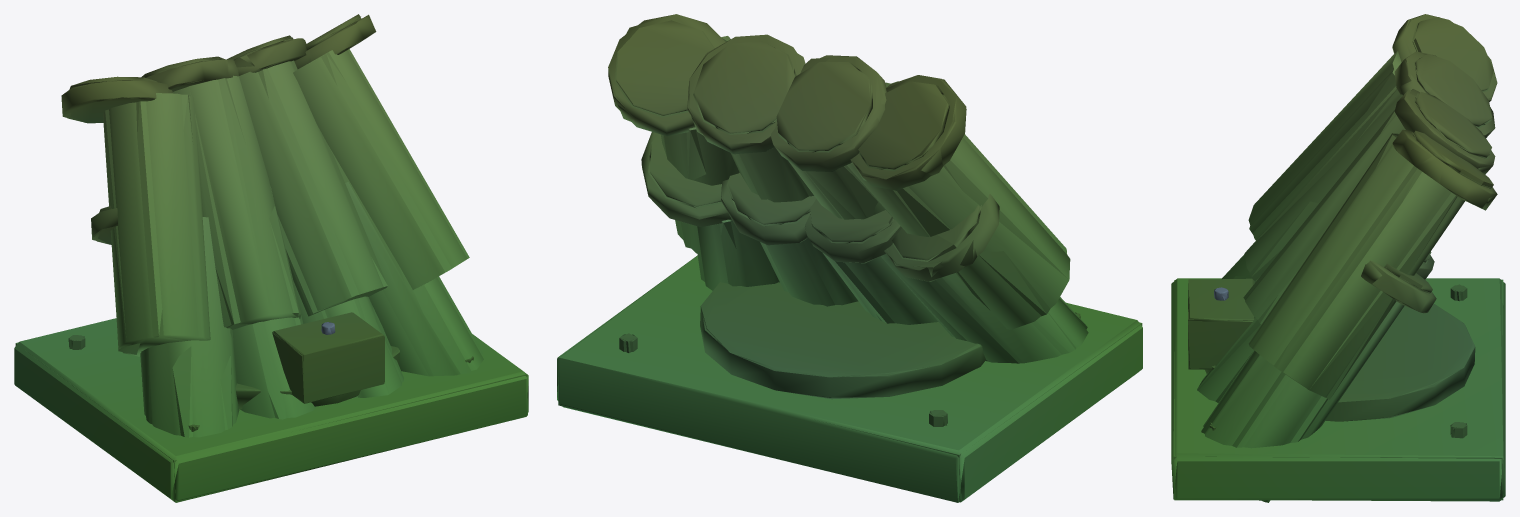
File: RCLModule_skirmish_bike_cyber_nanoweave_LODs.fbx
3 views of the same model, side by side, from view 1: azimuth 30°, elevation 25°; view 2: azimuth 150°, elevation 25°; view 3: azimuth 270°, elevation 25° (orthographic). The views are drawn at different scales.
Parts seen in each view (by area): view 1: LOD1_RCLModule_skirmish_bike_cyber_nanoweave_Batch_RCLModule (×2), LOD2_RCLModule_skirmish_bike_cyber_nanoweave_Batch_RCLModule (×2); view 2: LOD1_RCLModule_skirmish_bike_cyber_nanoweave_Batch_RCLModule (×2), LOD2_RCLModule_skirmish_bike_cyber_nanoweave_Batch_RCLModule (×2); view 3: LOD1_RCLModule_skirmish_bike_cyber_nanoweave_Batch_RCLModule (×2), LOD2_RCLModule_skirmish_bike_cyber_nanoweave_Batch_RCLModule (×2).
Part boxes in pixels (left/top/right/bottom): LOD1_RCLModule_skirmish_bike_cyber_nanoweave_Batch_RCLModule (×2): left=14, top=14, right=528, bottom=502; LOD2_RCLModule_skirmish_bike_cyber_nanoweave_Batch_RCLModule (×2): left=15, top=14, right=527, bottom=502; LOD1_RCLModule_skirmish_bike_cyber_nanoweave_Batch_RCLModule (×2): left=557, top=15, right=1142, bottom=502; LOD2_RCLModule_skirmish_bike_cyber_nanoweave_Batch_RCLModule (×2): left=557, top=14, right=1142, bottom=502; LOD1_RCLModule_skirmish_bike_cyber_nanoweave_Batch_RCLModule (×2): left=1171, top=14, right=1505, bottom=502; LOD2_RCLModule_skirmish_bike_cyber_nanoweave_Batch_RCLModule (×2): left=1173, top=14, right=1503, bottom=500.
Size of the model in its own units: 28 by 26.06 by 22.
